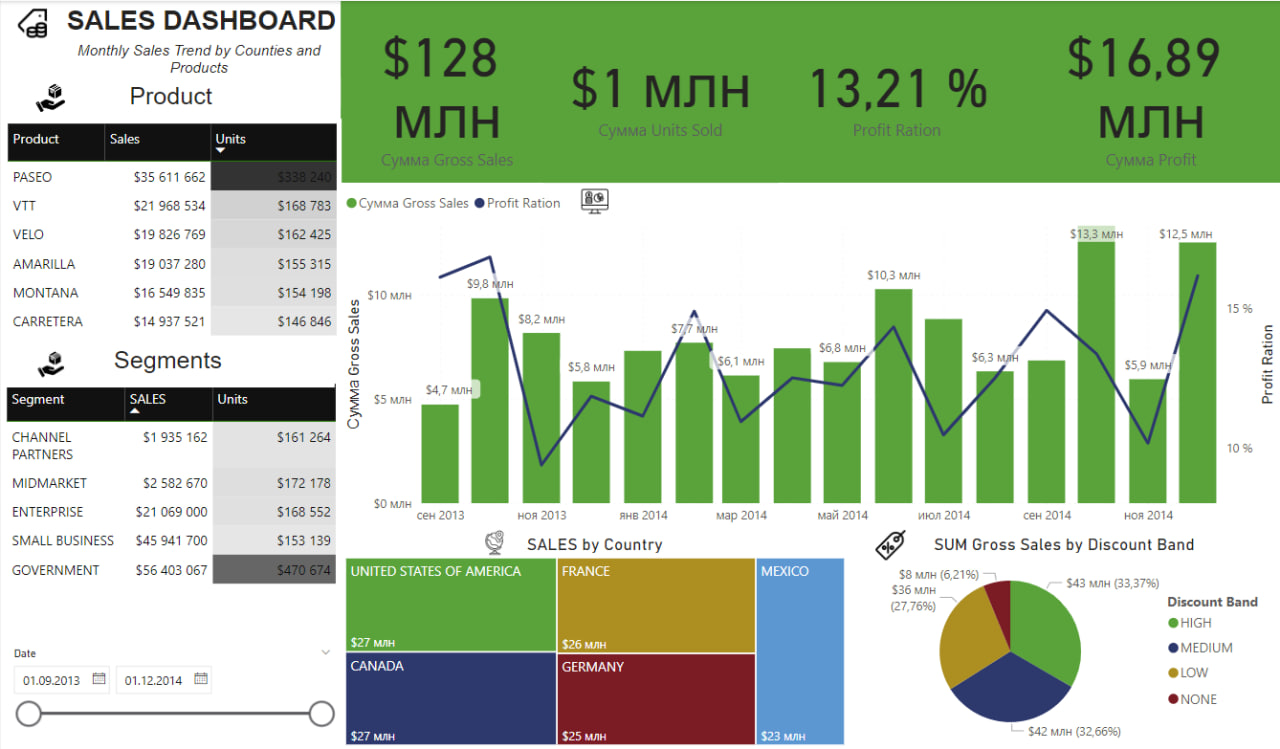

This screenshot's page, from the dashboard's own definition file:
{"tool":"powerbi","page":{"name":"Страница 1","canvas":[1280,750],"ordinal":0},"visuals":[{"type":"card","fields":{"Values":["Sum(financials.Gross Sales)"]},"box":[340,0,213.1,180.9],"z":0,"group":"g1"},{"type":"lineStackedColumnComboChart","fields":{"Category":["Calendar.Date"],"Y":["Sum(financials.Gross Sales)"],"Y2":["calc.Profit Ration"]},"box":[340.3,181.8,939.4,351],"z":0},{"type":"card","fields":{"Values":["Sum(financials.Units Sold)"]},"box":[543.1,0,234.6,181.8],"z":1000,"group":"g1"},{"type":"group","id":"g1","title":"Группа 1","box":[340,0,940.3,181.8],"z":1000},{"type":"card","fields":{"Values":["Sum(financials.Profit)"]},"box":[1021.5,0,258.8,180.9],"z":2000,"group":"g1"},{"type":"tableEx","fields":{"Values":["financials.Product","Sum(financials.Gross Sales)","Sum(financials.Units Sold)"]},"box":[1,117.8,339.9,223.1],"z":2000},{"type":"card","fields":{"Values":["calc.Profit Ration"]},"box":[778.8,0,236.4,180.9],"z":3000,"group":"g1"},{"type":"tableEx","fields":{"Values":["financials.Segment","Sum(financials.Gross Sales)","Sum(financials.Units Sold)"]},"box":[0,378.2,342.7,263.3],"z":3000},{"type":"treemap","title":"SALES by Country","fields":{"Group":["financials.Country"],"Values":["Sum(financials.Gross Sales)"]},"box":[339.9,533.3,509.3,216.4],"z":4000},{"type":"pieChart","title":"SUM Gross Sales by Discount Band","fields":{"Category":["financials.Discount Band"],"Y":["Sum(financials.Gross Sales)"]},"box":[848.2,533.3,431.8,216.4],"z":5000},{"type":"textbox","box":[0,0,340.3,105.7],"z":6000},{"type":"textbox","box":[59.4,35.4,277.6,62.2],"z":7000},{"type":"image","box":[0,2.7,61.8,39.4],"z":8000},{"type":"textbox","box":[0,76.6,339.9,42.1],"z":9000},{"type":"image","box":[0,76.6,98.6,41.2],"z":10000},{"type":"textbox","box":[0,340.8,334.1,46],"z":11000},{"type":"image","box":[0,344.7,98.6,38.3],"z":12000},{"type":"image","box":[849,524.8,80.6,40.3],"z":13000},{"type":"image","box":[565.1,181.8,58.2,36.7],"z":14000},{"type":"image","box":[466.6,524.8,54.6,34.9],"z":15000},{"type":"slicer","fields":{"Values":["Calendar.Date"]},"box":[0,641.4,342.7,108.2],"z":16000}]}

Visuals, with their boxes in screenshot pixels (x1, y1, x2, y2), scaled from the page's 1280x750 canvas onto the 1280x749 screenshot:
card - Sum(financials.Gross Sales): 340,0,553,181
lineStackedColumnComboChart - Calendar.Date x Sum(financials.Gross Sales): 340,182,1279,532
card - Sum(financials.Units Sold): 543,0,778,182
"Группа 1" group: 340,0,1279,182
card - Sum(financials.Profit): 1022,0,1279,181
tableEx - financials.Product x Sum(financials.Gross Sales): 1,118,341,340
card - calc.Profit Ration: 779,0,1015,181
tableEx - financials.Segment x Sum(financials.Gross Sales): 0,378,343,641
"SALES by Country" treemap: 340,533,849,748
"SUM Gross Sales by Discount Band" pieChart: 848,533,1279,748
textbox: 0,0,340,106
textbox: 59,35,337,97
image: 0,3,62,42
textbox: 0,76,340,119
image: 0,76,99,118
textbox: 0,340,334,386
image: 0,344,99,382
image: 849,524,930,564
image: 565,182,623,218
image: 467,524,521,559
slicer - Calendar.Date: 0,641,343,748
